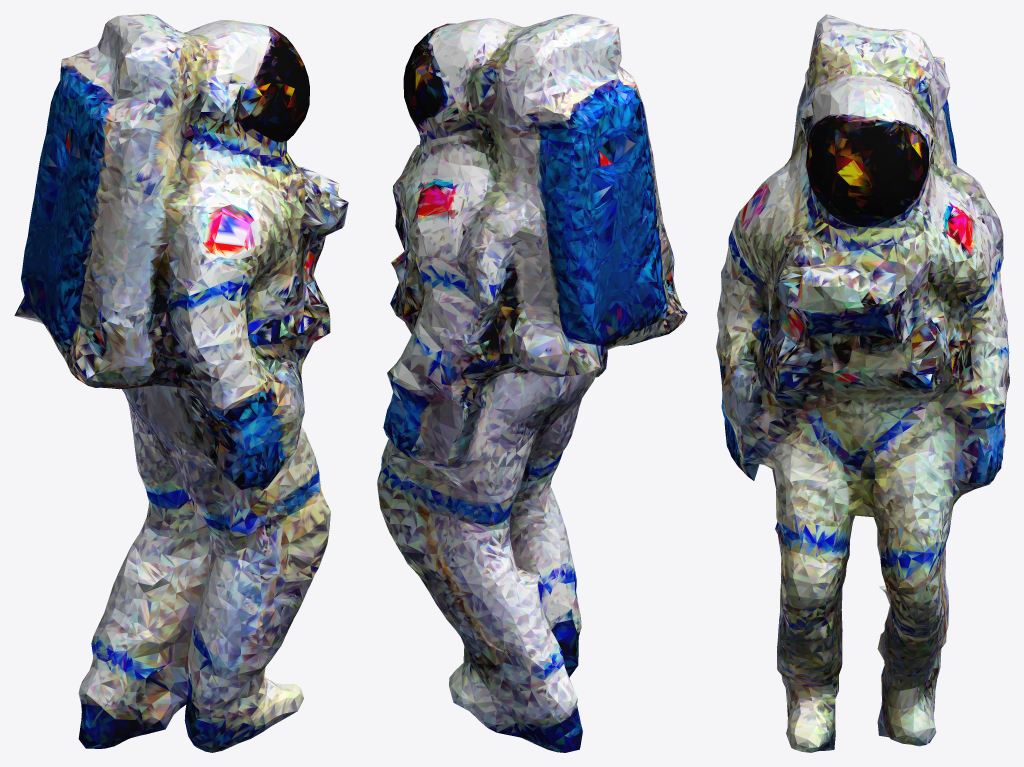
The model's file is astronaut-scribble.glb.
The picture shows the model from 3 angles, left to right: view 1: azimuth 30°, elevation 25°; view 2: azimuth 150°, elevation 25°; view 3: azimuth 270°, elevation 25°; orthographic projection. The views are drawn at different scales.
Visible parts, largest first — view 1: extracted_mesh; view 2: extracted_mesh; view 3: extracted_mesh.
Boxes of the visible parts, left/top/right/bottom form: extracted_mesh: left=14, top=14, right=348, bottom=752; extracted_mesh: left=377, top=14, right=687, bottom=752; extracted_mesh: left=716, top=14, right=1009, bottom=752.
Size of the model in its own units: 0.3888 by 0.9965 by 0.3734.
Materials: 1 (1 with a texture image).
